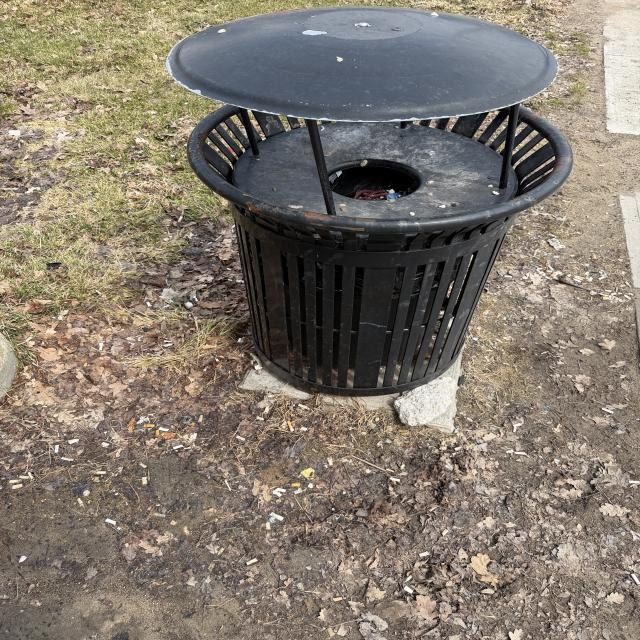Dustbin: (166, 6, 574, 399)
